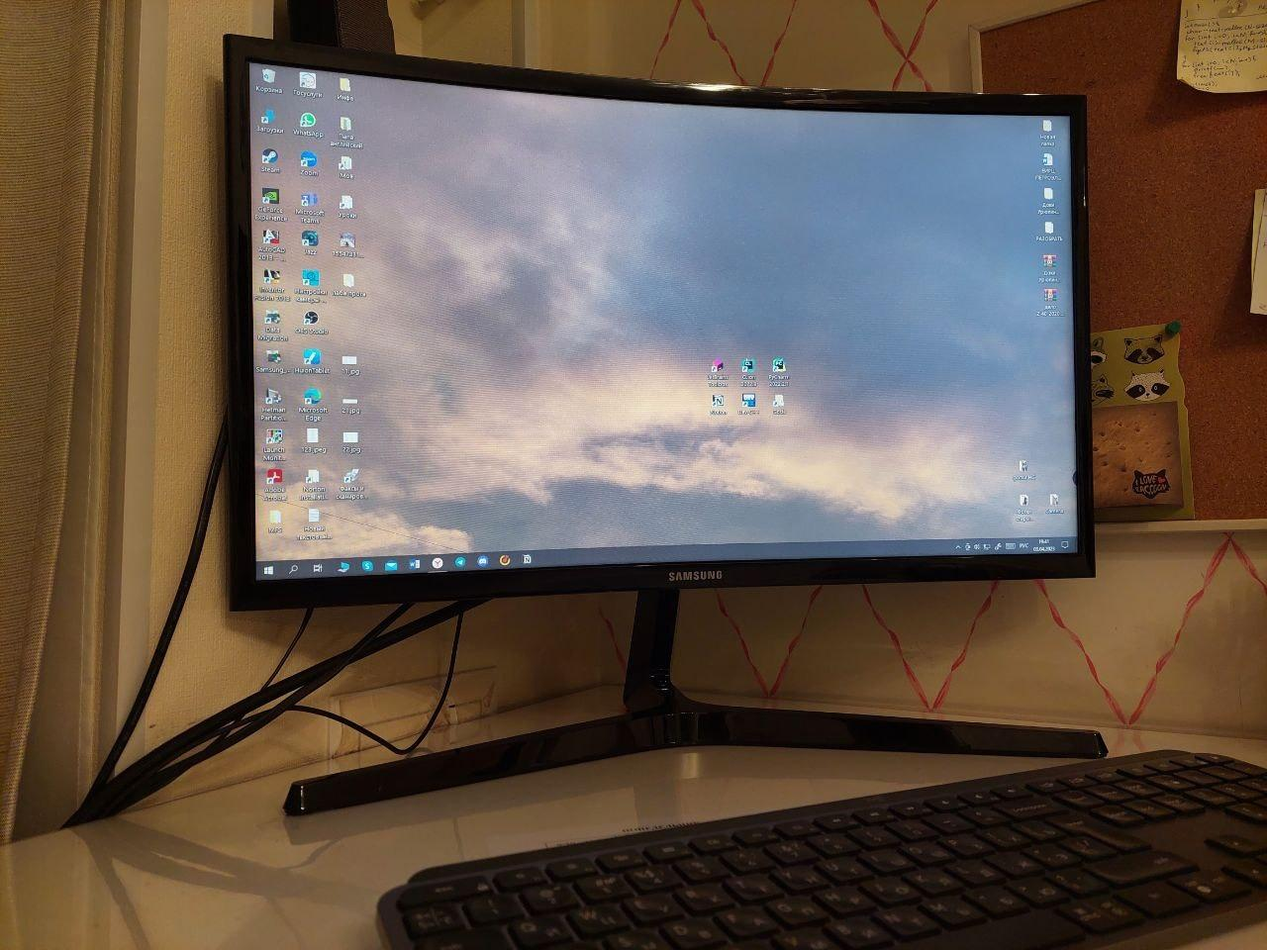monitor: (211, 26, 1110, 627)
